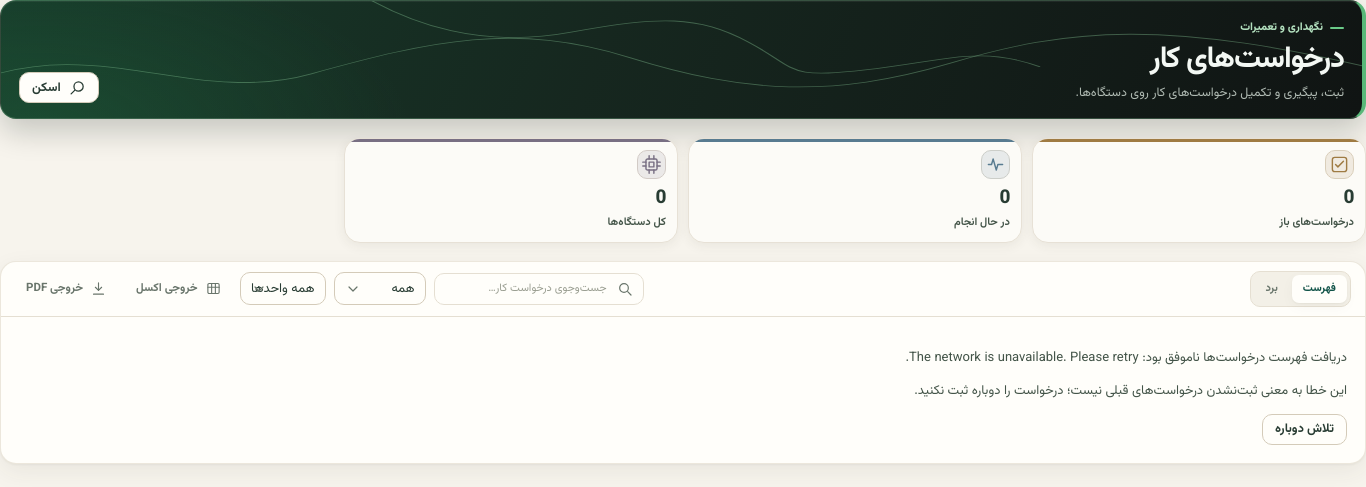
Test case: work order list error versus empty › retries fetching the list and clears the error after success
The image size is (1366, 487).
Expected: the text "دریافت فهرست درخواست‌ها ناموفق بود" is shown, x1=906 y1=348 x2=1347 y2=368
Click the button "تلاش دوباره" at (1304, 430), box x1=1262 y1=414 x2=1347 y2=445
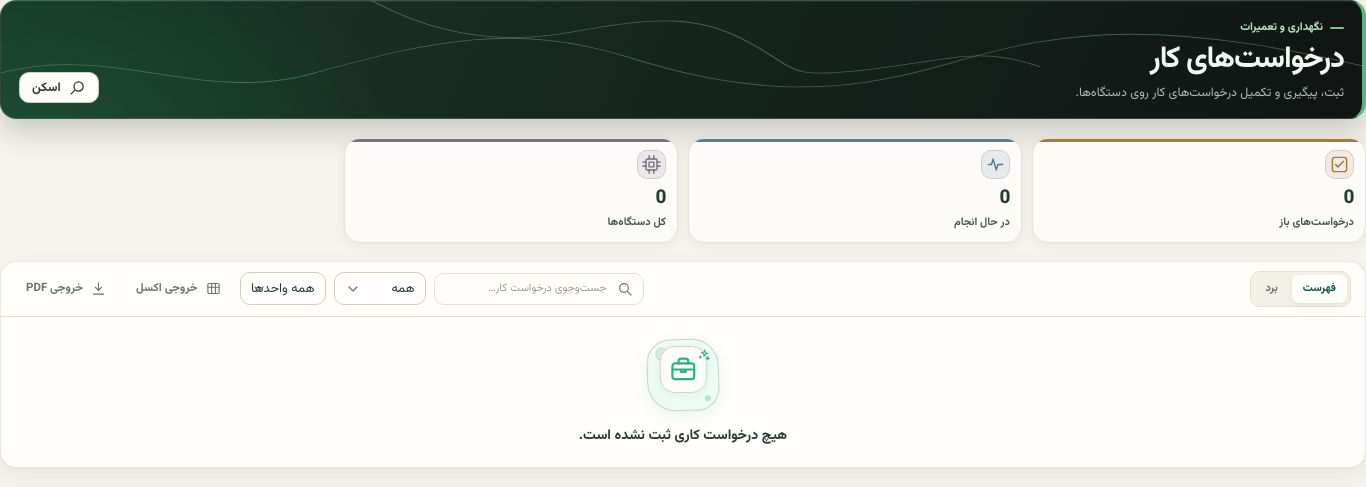
Now the heading "هیچ درخواست کاری ثبت نشده است." is shown, box x1=579 y1=426 x2=787 y2=447
Now the text "دریافت فهرست درخواست‌ها ناموفق بود" is gone
